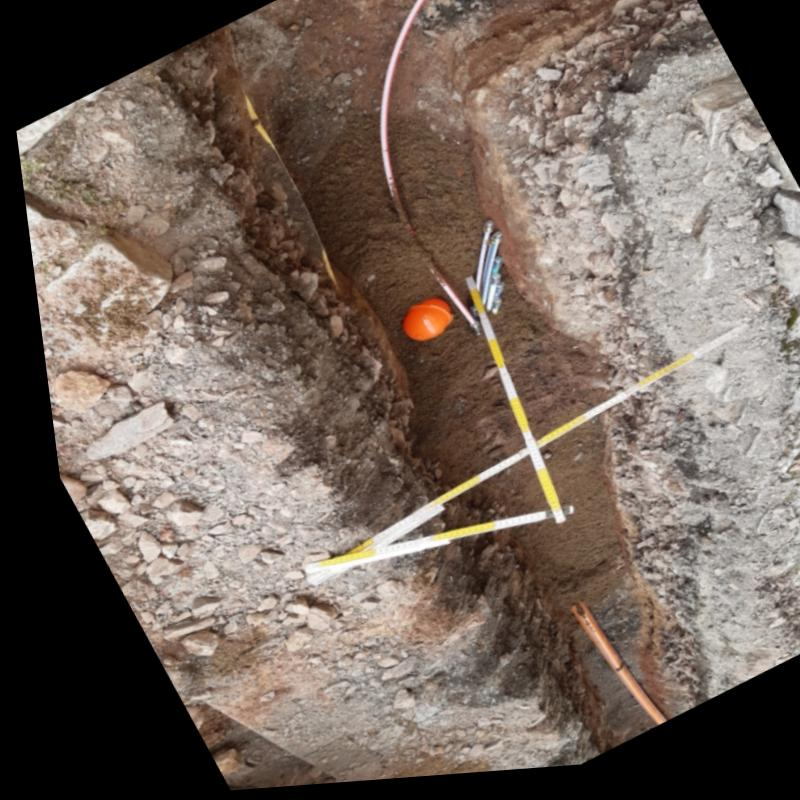Kugelmarker: (394, 303, 441, 346)
